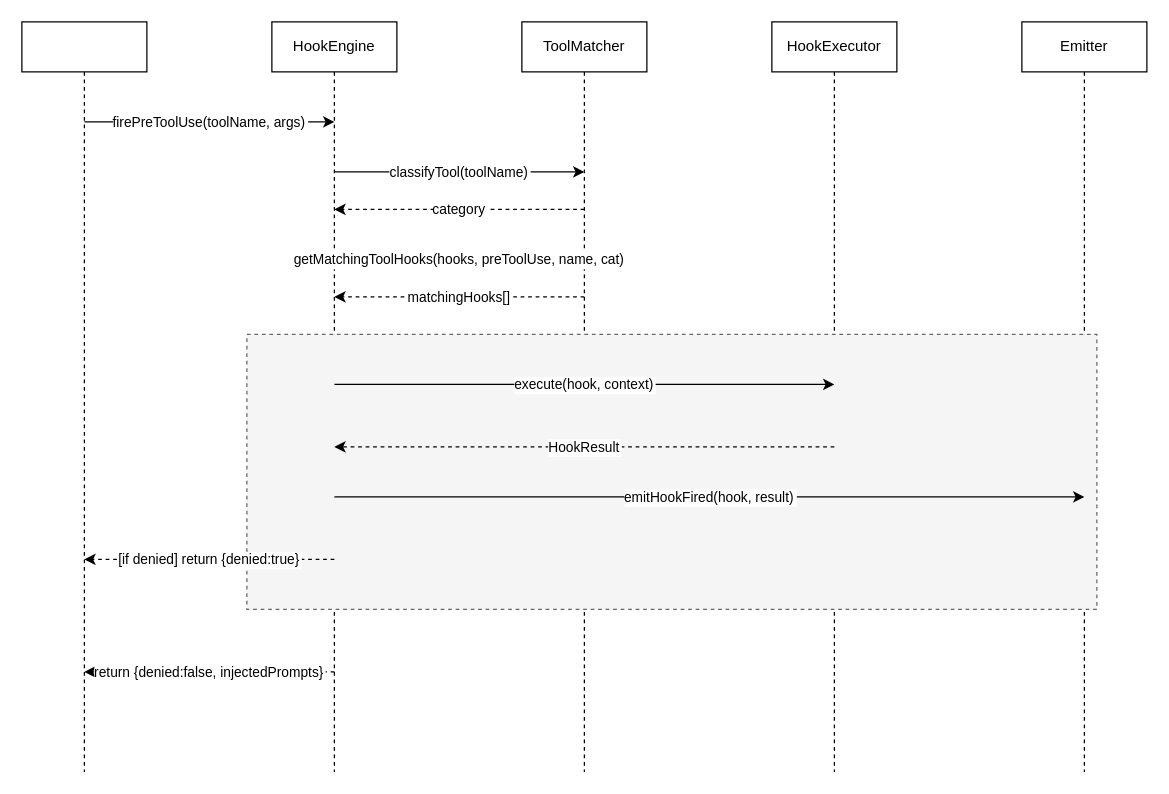
The diagram is 1169 pixels wide and 794 high, and some of its shapes have lost their labels. Each missing label, with the box of its shape:
[loop] for each hook: (246, 333, 1097, 609)
Pipeline: (21, 21, 147, 772)
